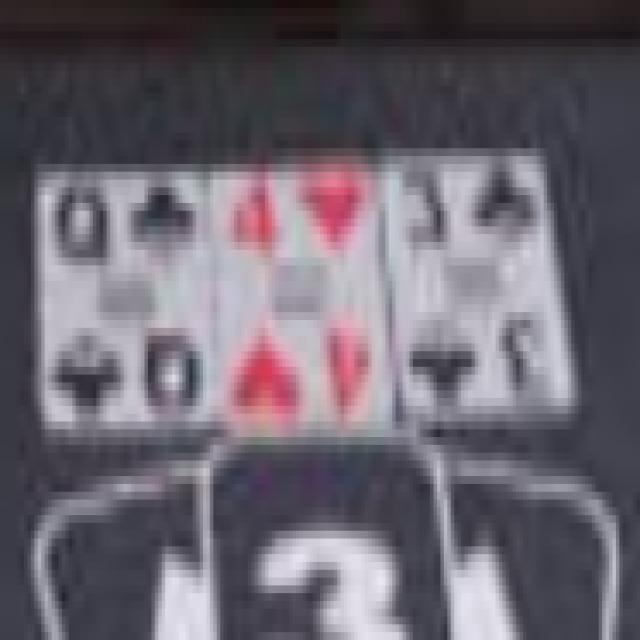Card-3: (394, 152, 567, 416)
Card-4: (214, 167, 387, 429)
Card-Q: (43, 171, 207, 425)
